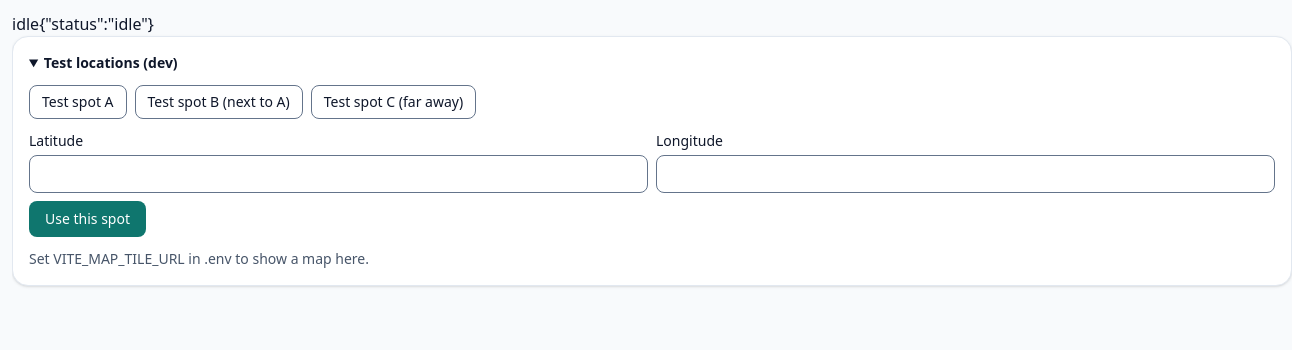
Test: DevLocationPicker › preset Test spot C (far away) selects gcpvj0d
The width and height of the screenshot is (1292, 350).
Click the button "Test spot C (far away)": (393, 102) [311, 85, 476, 119]
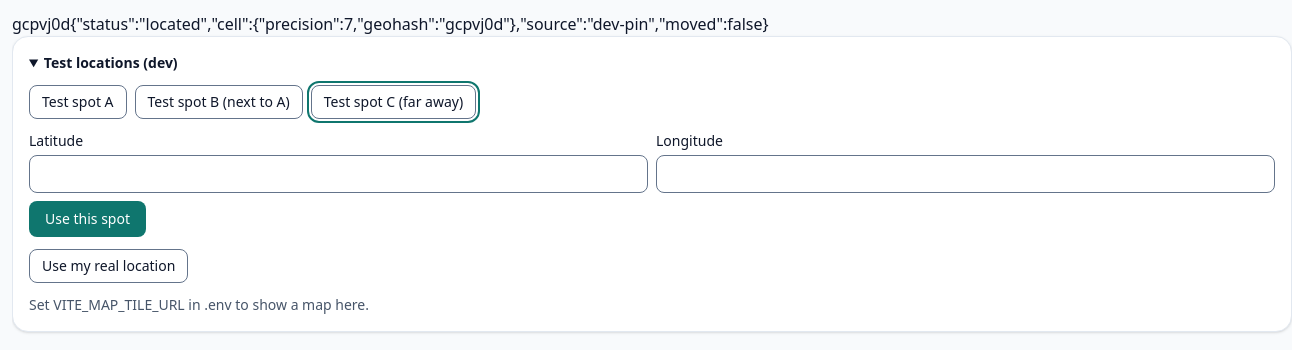
Expected: the text with test id "area" reads "gcpvj0d", [12, 13, 70, 35]
